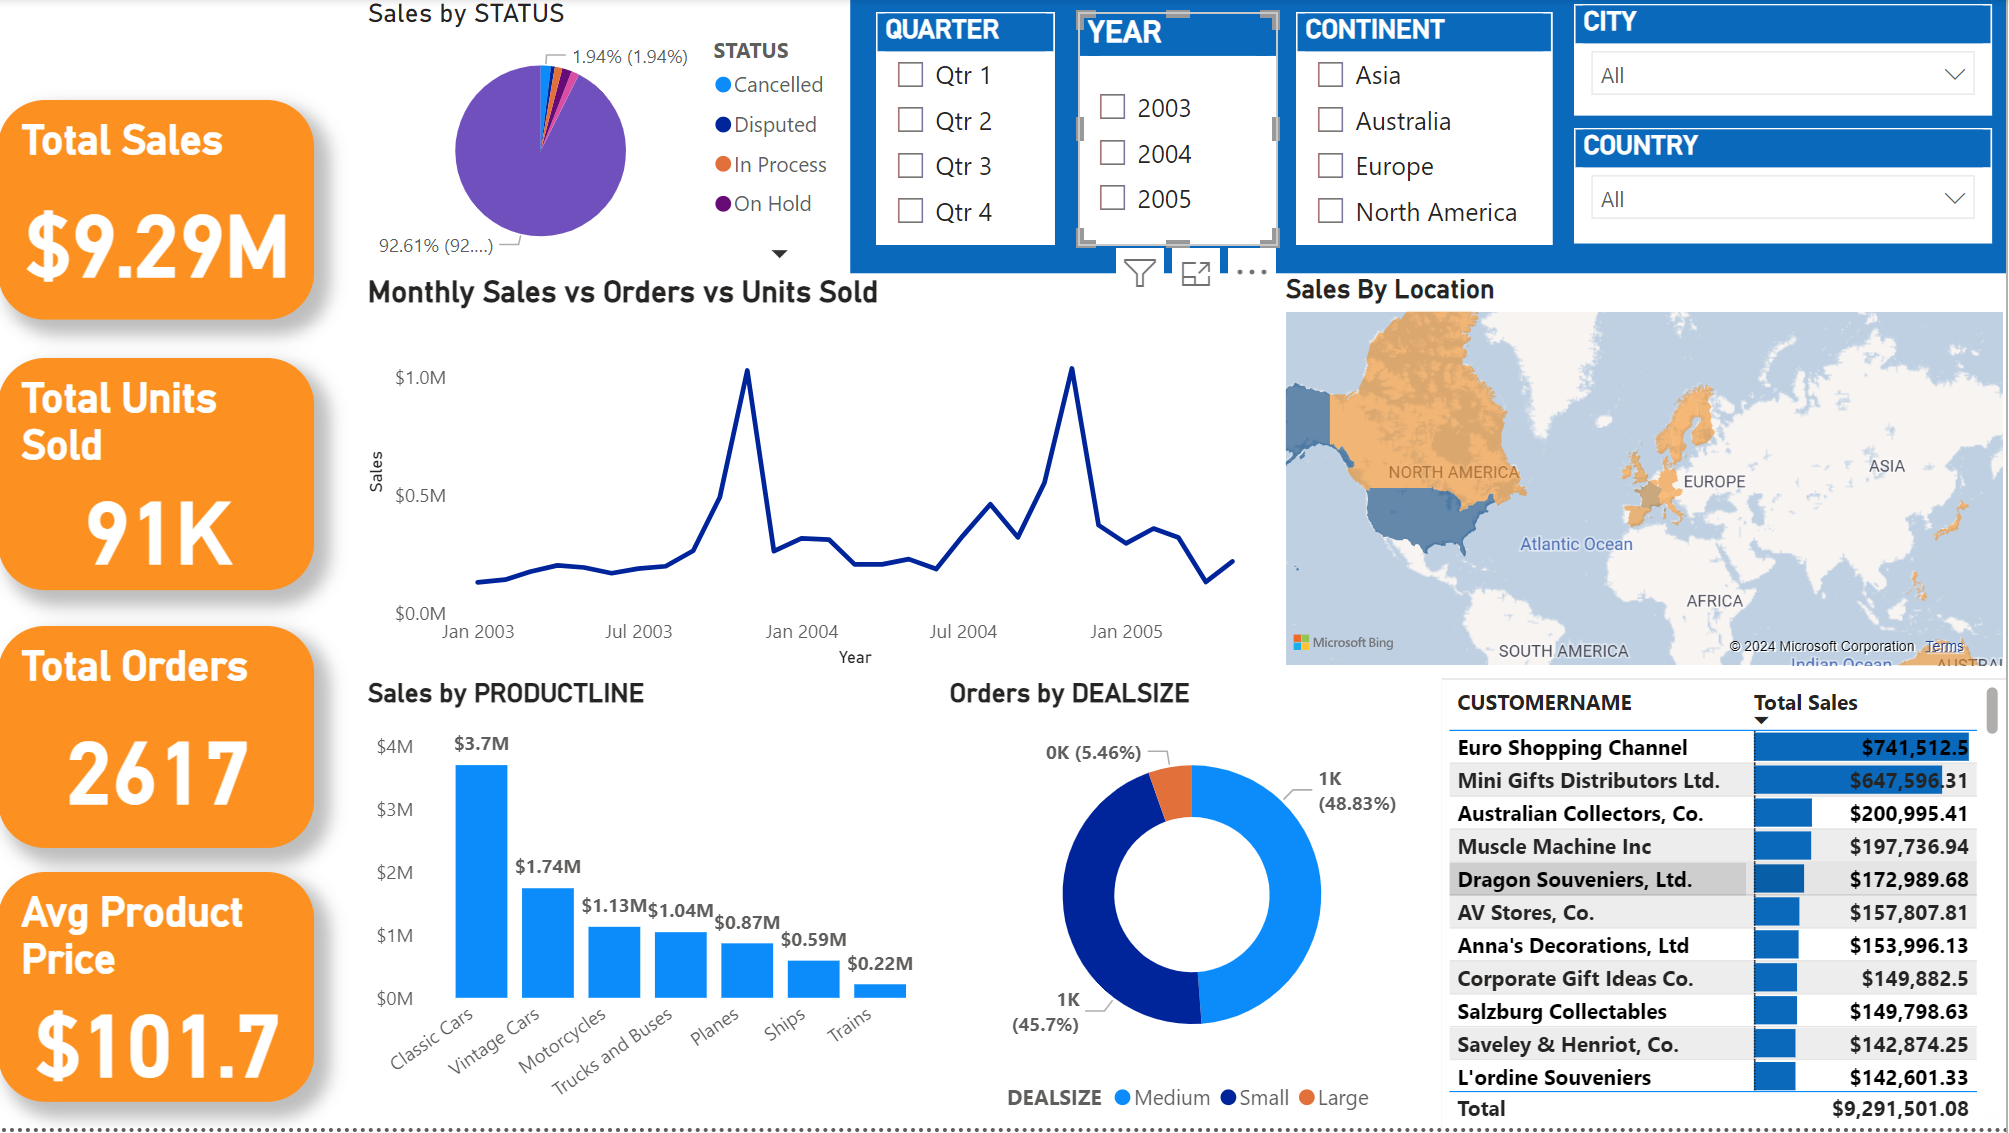

This screenshot's page, from the dashboard's own definition file:
{"tool":"powerbi","page":{"name":"Page 1","canvas":[1280,720],"ordinal":0},"visuals":[{"type":"shape","box":[543.6,0,737.7,175.4],"z":0},{"type":"slicer","title":"YEAR","fields":{"Values":["Date Table.Date.Variation.Date Hierarchy.Year"]},"box":[688.4,8.9,127.5,149.2],"z":1000},{"type":"tableEx","fields":{"Values":["Customer Details.CUSTOMERNAME","Sales Data.Total Successful Sales"]},"box":[919.8,433.8,361.5,289.2],"z":2000},{"type":"slicer","title":"QUARTER","fields":{"Values":["Date Table.Date.Variation.Date Hierarchy.Quarter"]},"box":[559.7,9.4,113.8,148.6],"z":3000},{"type":"slicer","title":"COUNTRY","fields":{"Values":["Customer Details.COUNTRY"]},"box":[1004.2,83,266.4,73.6],"z":4000},{"type":"filledMap","title":"Sales By Location","fields":{"Category":["Customer Details.COUNTRY"]},"box":[815.4,175.4,467.3,254.4],"z":5000},{"type":"slicer","title":"CITY","fields":{"Values":["Customer Details.CITY"]},"box":[1004.2,4,266.4,71],"z":6000},{"type":"card","title":"Total Orders","fields":{"Values":["Table.Total Successful Orders"]},"box":[0,400.3,201.4,141.5],"z":7000},{"type":"slicer","title":"CONTINENT","fields":{"Values":["Customer Details.CONTINENT"]},"box":[827.4,9.4,163.3,148.6],"z":8000},{"type":"card","title":"Total Sales","fields":{"Values":["Table.Total Successful Sales"]},"box":[0,65,201.4,140.2],"z":9000},{"type":"card","title":"Total Units Sold","fields":{"Values":["Measures Table.Total Successful Units"]},"box":[0,229.5,201.4,147.9],"z":10000},{"type":"donutChart","title":"Orders by DEALSIZE","fields":{"Y":["Measures Table.Total Successful Orders"],"Category":["Sales Data.DEALSIZE"]},"box":[601.2,433.8,318.7,286.5],"z":11000},{"type":"columnChart","title":"Sales by PRODUCTLINE","fields":{"Category":["Sales Data.PRODUCTLINE"],"Y":["Measures Table.Total Successful Sales"]},"box":[230.3,433.8,370.9,287.9],"z":12000},{"type":"card","title":"Avg Product Price","fields":{"Values":["Measures Table.Average Product Price"]},"box":[0,557.1,201.4,146.6],"z":13000},{"type":"lineChart","title":"Monthly Sales vs Orders vs Units Sold","fields":{"Category":["Date Table.Date.Variation.Date Hierarchy.Year","Date Table.Date.Variation.Date Hierarchy.Month"],"Y":["Measures Table.Total Successful Sales"]},"box":[230.8,175.9,585.2,255],"z":14000},{"type":"pieChart","title":"Sales by STATUS","fields":{"Y":["Sales Data.Total Sales"],"Series":["Sales Data.STATUS"]},"box":[230.8,0,312.4,175.9],"z":15000}]}

Visuals, with their boxes in screenshot pixels (x1, y1, x2, y2), scaled from the page's 1280x720 canvas onto the 2009x1133 screenshot:
shape: left=853, top=0, right=2008, bottom=276
"YEAR" slicer: left=1080, top=14, right=1281, bottom=249
tableEx - Customer Details.CUSTOMERNAME x Sales Data.Total Successful Sales: left=1444, top=683, right=2008, bottom=1132
"QUARTER" slicer: left=878, top=15, right=1057, bottom=249
"COUNTRY" slicer: left=1576, top=131, right=1994, bottom=246
"Sales By Location" filledMap: left=1280, top=276, right=2008, bottom=676
"CITY" slicer: left=1576, top=6, right=1994, bottom=118
"Total Orders" card: left=0, top=630, right=316, bottom=853
"CONTINENT" slicer: left=1299, top=15, right=1555, bottom=249
"Total Sales" card: left=0, top=102, right=316, bottom=323
"Total Units Sold" card: left=0, top=361, right=316, bottom=594
"Orders by DEALSIZE" donutChart: left=944, top=683, right=1444, bottom=1132
"Sales by PRODUCTLINE" columnChart: left=361, top=683, right=944, bottom=1132
"Avg Product Price" card: left=0, top=877, right=316, bottom=1107
"Monthly Sales vs Orders vs Units Sold" lineChart: left=362, top=277, right=1281, bottom=678
"Sales by STATUS" pieChart: left=362, top=0, right=853, bottom=277
